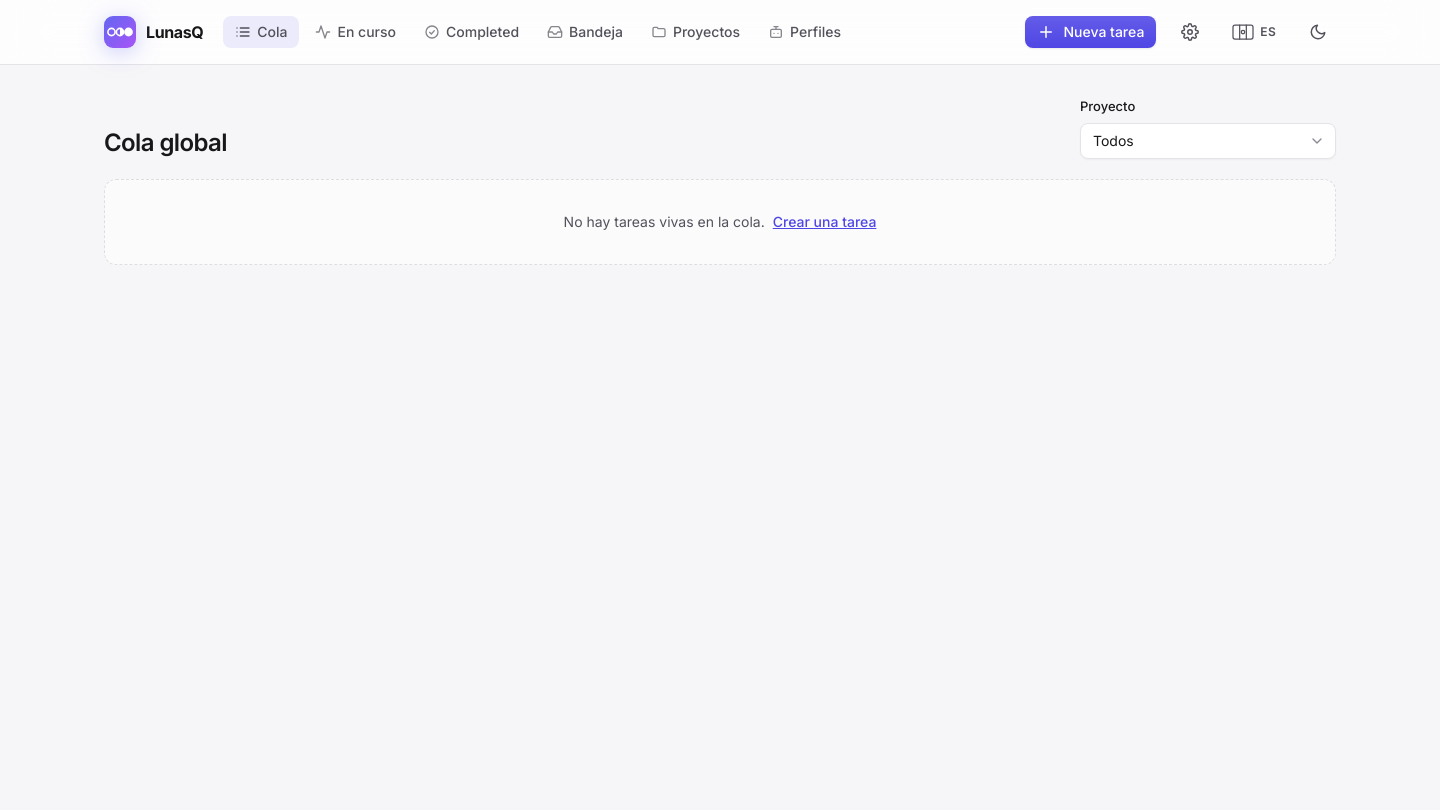
Test: header New task button › a click from /queue opens the existing New task page
Click the link "Nueva tarea".
click(1091, 32)  # box top-left (1026, 16), bottom-right (1156, 48)
(page scrolled)
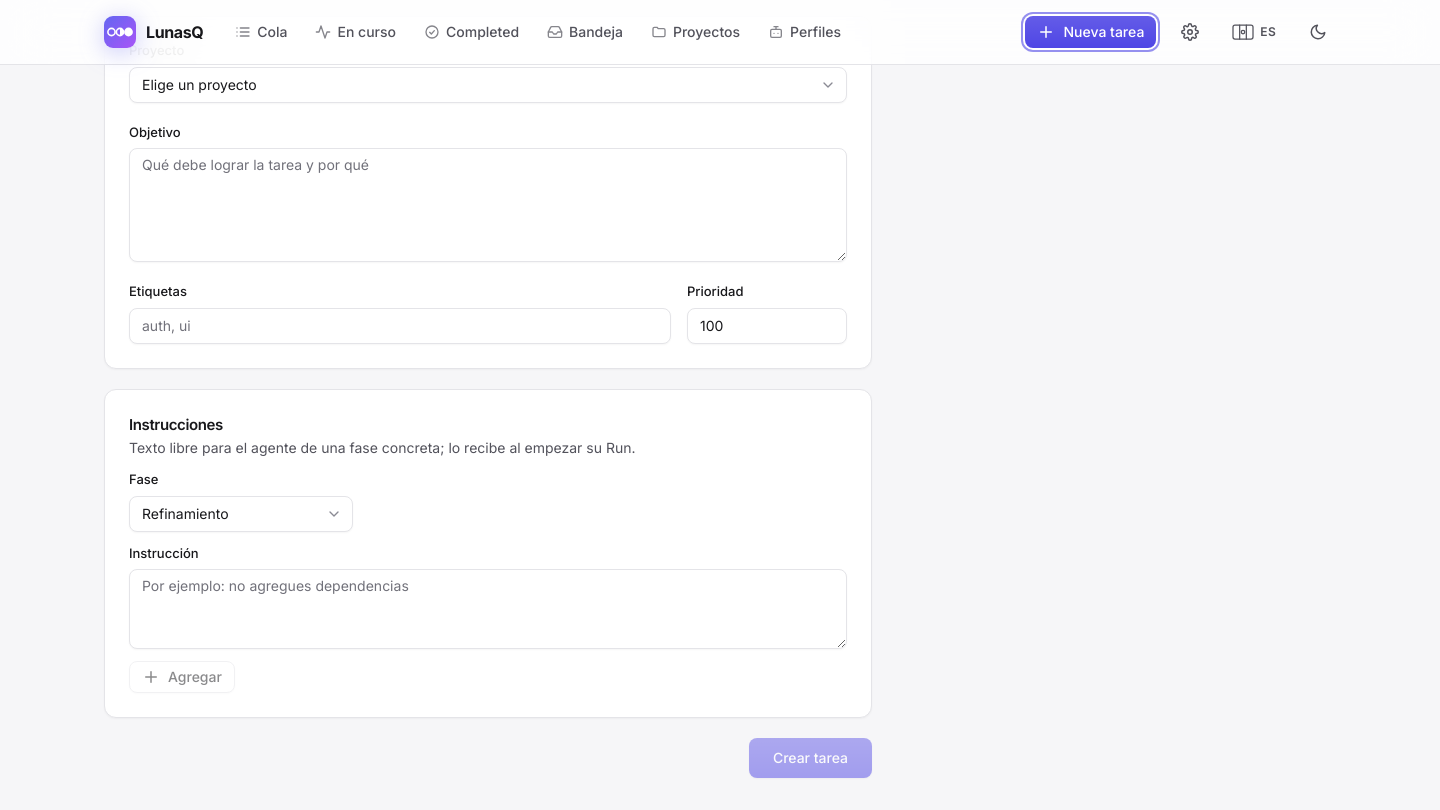
Now the dropdown labelled "Proyecto" is shown, box top-left (129, 66), bottom-right (847, 102)
Now the text box labelled "Objetivo" is shown, box top-left (129, 148), bottom-right (847, 262)
Now the button "Crear tarea" is shown, box top-left (749, 738), bottom-right (872, 778)
